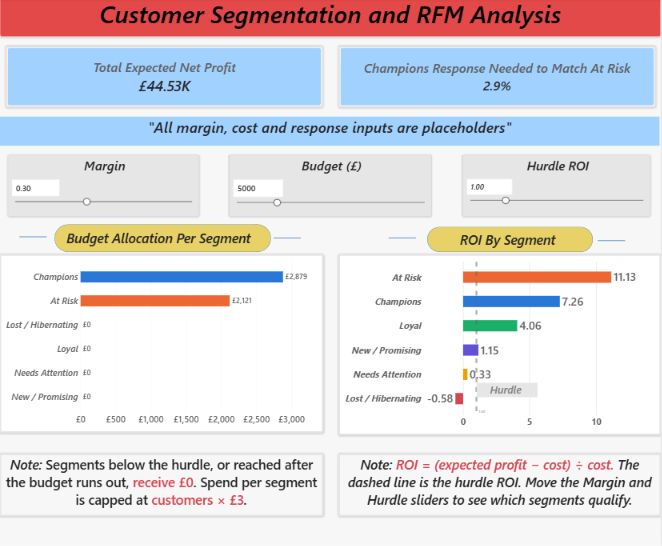

The dashboard page shown, as its layout file describes it:
{"tool":"powerbi","page":{"name":"ROI & Budget","canvas":[2400,2000],"ordinal":2},"visuals":[{"type":"textbox","box":[0,0,2399.5,145],"z":0},{"type":"shape","box":[196.9,826.9,786.7,101.1],"z":1000},{"type":"textbox","box":[236.4,844.4,676.8,92.3],"z":2000},{"type":"shape","box":[69.4,848.8,100,47],"z":3000},{"type":"shape","box":[992.3,853.2,100,47],"z":4000},{"type":"shape","box":[1551.3,835,602.1,92.3],"z":5000},{"type":"textbox","box":[1617,850.1,452.7,70.3],"z":6000},{"type":"shape","box":[2170.7,852.5,100,65.9],"z":7000},{"type":"shape","box":[1410.4,848.1,100,55.4],"z":8000},{"type":"barChart","fields":{"Category":["Segmentation.Segment"],"Y":["Measure.ROI Live"]},"box":[1230.5,936.1,1169,654.8],"z":10000},{"type":"textbox","box":[1731.6,1403.2,220.8,52.3],"z":11000},{"type":"barChart","fields":{"Category":["Segmentation.Segment"],"Y":["Measure.Budget Spend"]},"box":[0,936.1,1173.4,646],"z":12000},{"type":"slicer","title":"Budget (£)","fields":{"Values":["Budget.Budget"]},"box":[837,575.7,730,220],"z":13000},{"type":"slicer","title":"Hurdle ROI","fields":{"Values":["Hurdle ROI.Hurdle ROI"]},"box":[1683.2,575.7,676.8,219.7],"z":14000},{"type":"slicer","title":"Margin","fields":{"Values":["Margin.Margin"]},"box":[30.8,575.7,690,219.7],"z":15000},{"type":"cardVisual","fields":{"Data":["Measure.Total Expected Net Profit"]},"box":[22,180.2,1150,220],"z":16000},{"type":"cardVisual","fields":{"Data":["Measure.Champions Breakeven Response"]},"box":[1230.5,180.2,1150,220],"z":17000},{"type":"textbox","box":[0,435.1,2395.1,105.5],"z":18000},{"type":"textbox","box":[1230.5,1661.2,1169,224.1],"z":19000},{"type":"textbox","box":[0,1661.2,1173.4,224.1],"z":20000}]}

Visuals, with their boxes in screenshot pixels (x1, y1, x2, y2), scaled from the page's 2400x2000 canvas onto the 662x546 screenshot:
textbox: {"left": 0, "top": 0, "right": 661, "bottom": 40}
shape: {"left": 54, "top": 226, "right": 271, "bottom": 253}
textbox: {"left": 65, "top": 231, "right": 252, "bottom": 256}
shape: {"left": 19, "top": 232, "right": 47, "bottom": 245}
shape: {"left": 274, "top": 233, "right": 301, "bottom": 246}
shape: {"left": 428, "top": 228, "right": 594, "bottom": 253}
textbox: {"left": 446, "top": 232, "right": 571, "bottom": 251}
shape: {"left": 599, "top": 233, "right": 626, "bottom": 251}
shape: {"left": 389, "top": 232, "right": 417, "bottom": 247}
barChart - Segmentation.Segment x Measure.ROI Live: {"left": 339, "top": 256, "right": 661, "bottom": 434}
textbox: {"left": 478, "top": 383, "right": 539, "bottom": 397}
barChart - Segmentation.Segment x Measure.Budget Spend: {"left": 0, "top": 256, "right": 324, "bottom": 432}
"Budget (£)" slicer: {"left": 231, "top": 157, "right": 432, "bottom": 217}
"Hurdle ROI" slicer: {"left": 464, "top": 157, "right": 651, "bottom": 217}
"Margin" slicer: {"left": 8, "top": 157, "right": 199, "bottom": 217}
cardVisual - Measure.Total Expected Net Profit: {"left": 6, "top": 49, "right": 323, "bottom": 109}
cardVisual - Measure.Champions Breakeven Response: {"left": 339, "top": 49, "right": 657, "bottom": 109}
textbox: {"left": 0, "top": 119, "right": 661, "bottom": 148}
textbox: {"left": 339, "top": 454, "right": 661, "bottom": 515}
textbox: {"left": 0, "top": 454, "right": 324, "bottom": 515}
